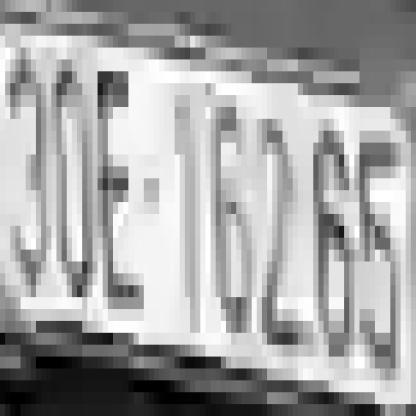2: (252, 107, 303, 333)
3: (5, 60, 51, 286)
5: (354, 143, 401, 356)
6: (308, 131, 349, 344)
E: (98, 83, 144, 297)
